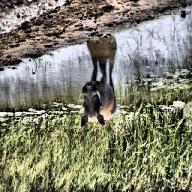boar: (79, 62, 117, 128)
